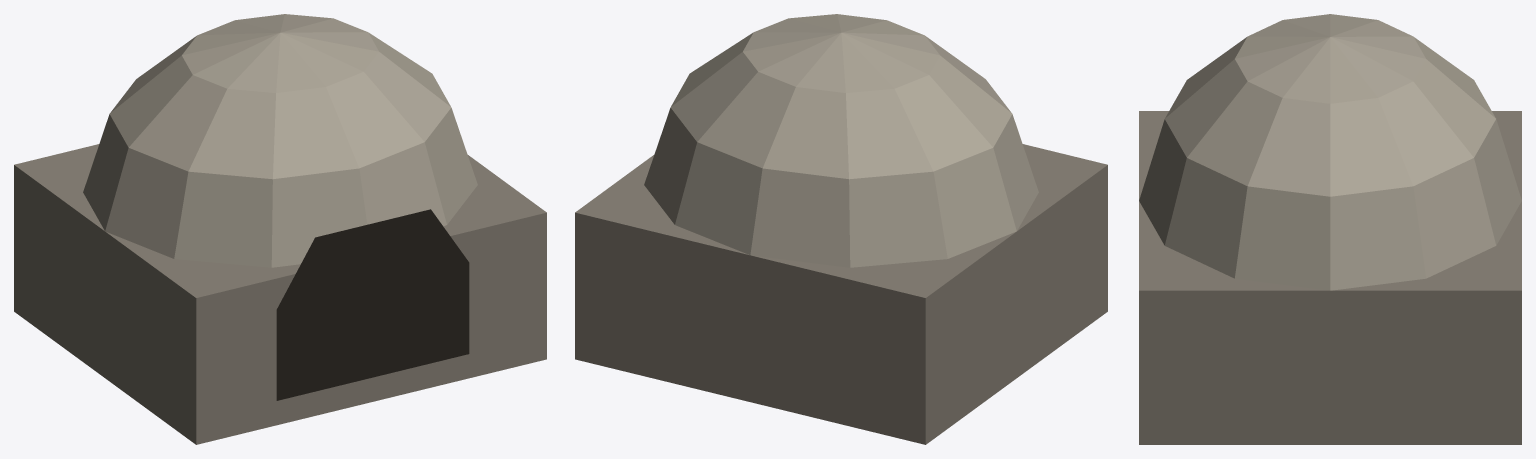
Rendered from bread-oven.glb.
The picture shows the model from 3 angles, left to right: view 1: azimuth 30°, elevation 25°; view 2: azimuth 150°, elevation 25°; view 3: azimuth 270°, elevation 25°; orthographic projection. The views are drawn at different scales.
Parts seen in each view (by area): view 1: Ofengewölbe, Ofensockel, Backöffnung; view 2: Ofensockel, Ofengewölbe; view 3: Ofengewölbe, Ofensockel.
Boxes of the visible parts, x1=… form: Ofengewölbe: x1=83, y1=14, x2=477, y2=267; Ofensockel: x1=14, y1=144, x2=546, y2=444; Backöffnung: x1=276, y1=209, x2=469, y2=400; Ofensockel: x1=575, y1=144, x2=1107, y2=444; Ofengewölbe: x1=644, y1=14, x2=1038, y2=267; Ofengewölbe: x1=1139, y1=14, x2=1521, y2=290; Ofensockel: x1=1139, y1=111, x2=1521, y2=444.
Bounding box in the file's own units: 1 × 0.85 × 0.907.
